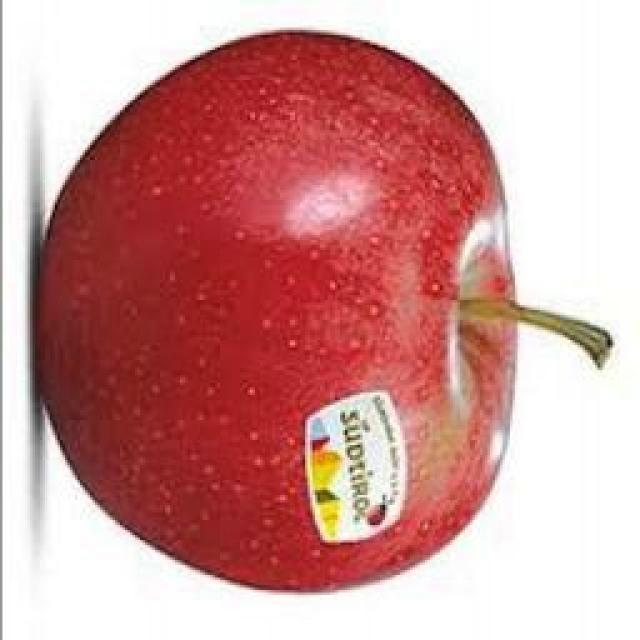Apple: (38, 32, 516, 589)
